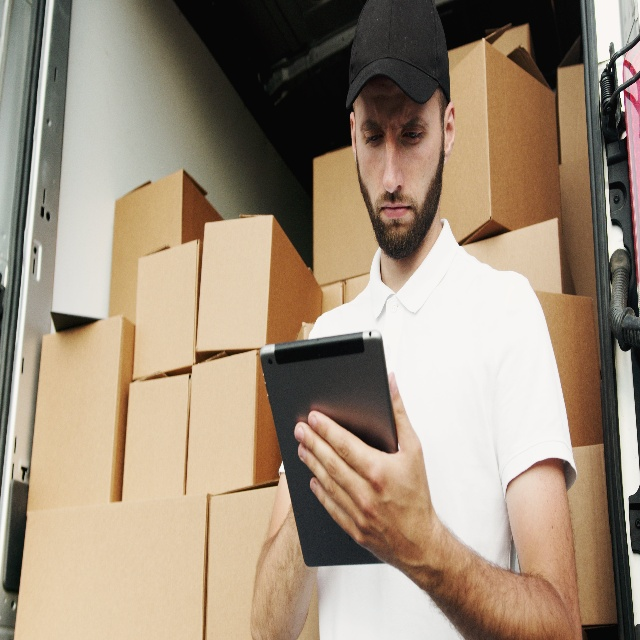Sin_guantes: (294, 372, 435, 574)
